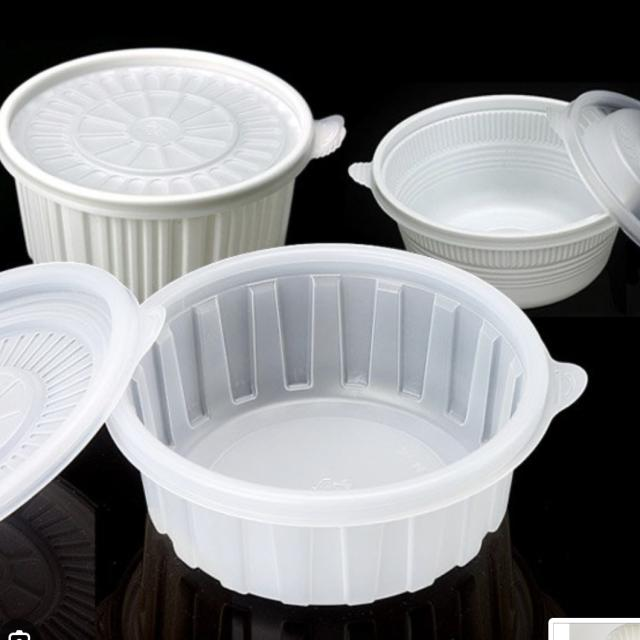recyclable: (100, 229, 597, 607), (8, 24, 358, 296), (343, 59, 640, 310)
